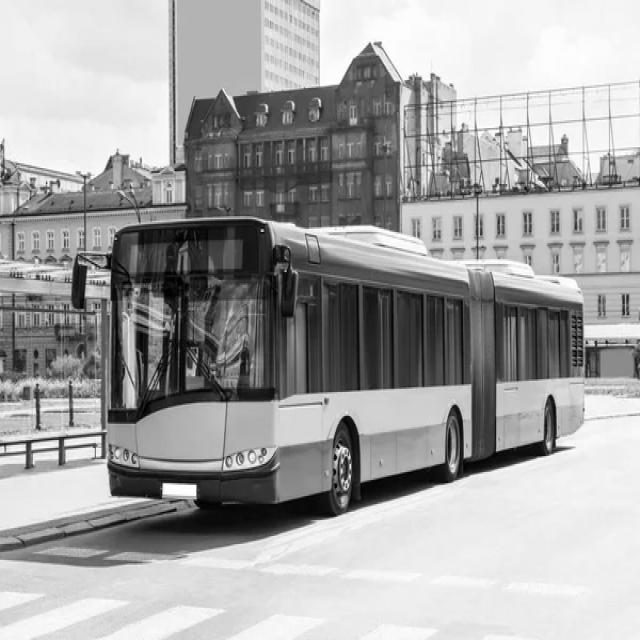Bus: (107, 217, 586, 514)
